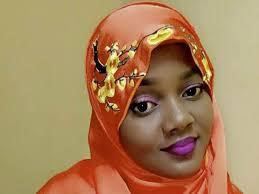No Mask: (114, 43, 225, 184)
